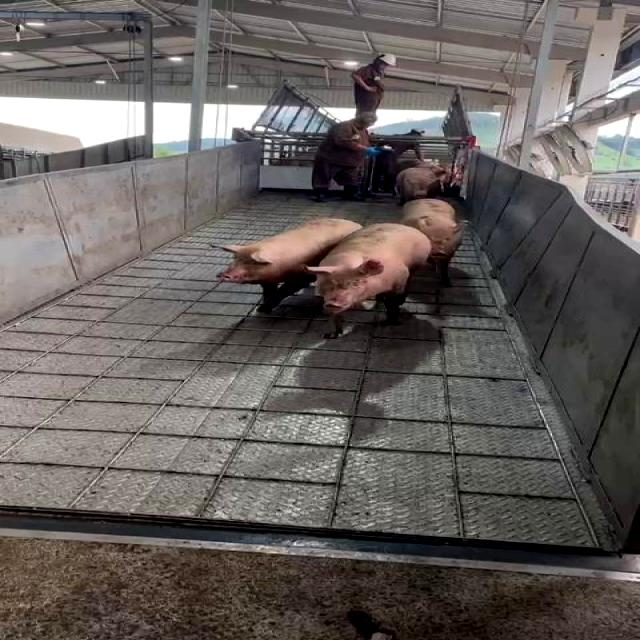pig: (307, 224, 428, 337), (219, 219, 359, 311), (401, 200, 467, 284)
